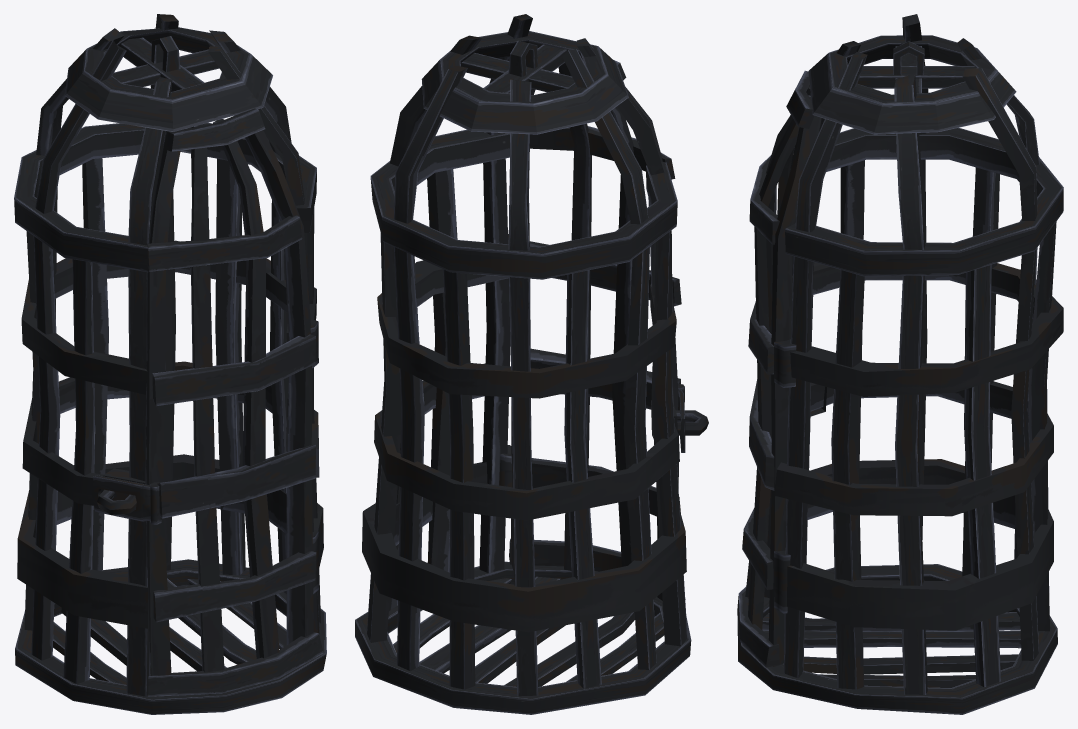
File: SM_PROP_cage_battle_02.fbx
The picture shows the model from 3 angles, left to right: view 1: azimuth 30°, elevation 25°; view 2: azimuth 150°, elevation 25°; view 3: azimuth 270°, elevation 25°; orthographic projection.
Parts seen in each view (by area): view 1: SM_PROP_cage_battle_02, SM_PROP_cage_door_battle_02; view 2: SM_PROP_cage_battle_02, SM_PROP_cage_door_battle_02; view 3: SM_PROP_cage_battle_02, SM_PROP_cage_door_battle_02.
Part boxes in pixels (x1=…): SM_PROP_cage_battle_02: x1=14, y1=14, x2=326, y2=714; SM_PROP_cage_door_battle_02: x1=91, y1=108, x2=323, y2=696; SM_PROP_cage_battle_02: x1=355, y1=14, x2=708, y2=714; SM_PROP_cage_door_battle_02: x1=509, y1=60, x2=685, y2=600; SM_PROP_cage_battle_02: x1=737, y1=14, x2=1063, y2=714; SM_PROP_cage_door_battle_02: x1=737, y1=70, x2=821, y2=667.
Bounding box in the file's own units: 103 × 219 × 106.
